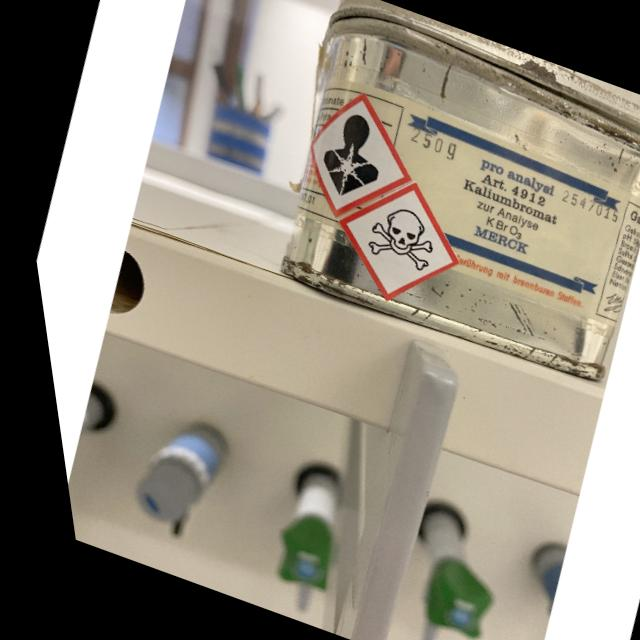acute toxicity: (351, 198, 440, 276)
serious health hazard: (302, 107, 397, 208)
